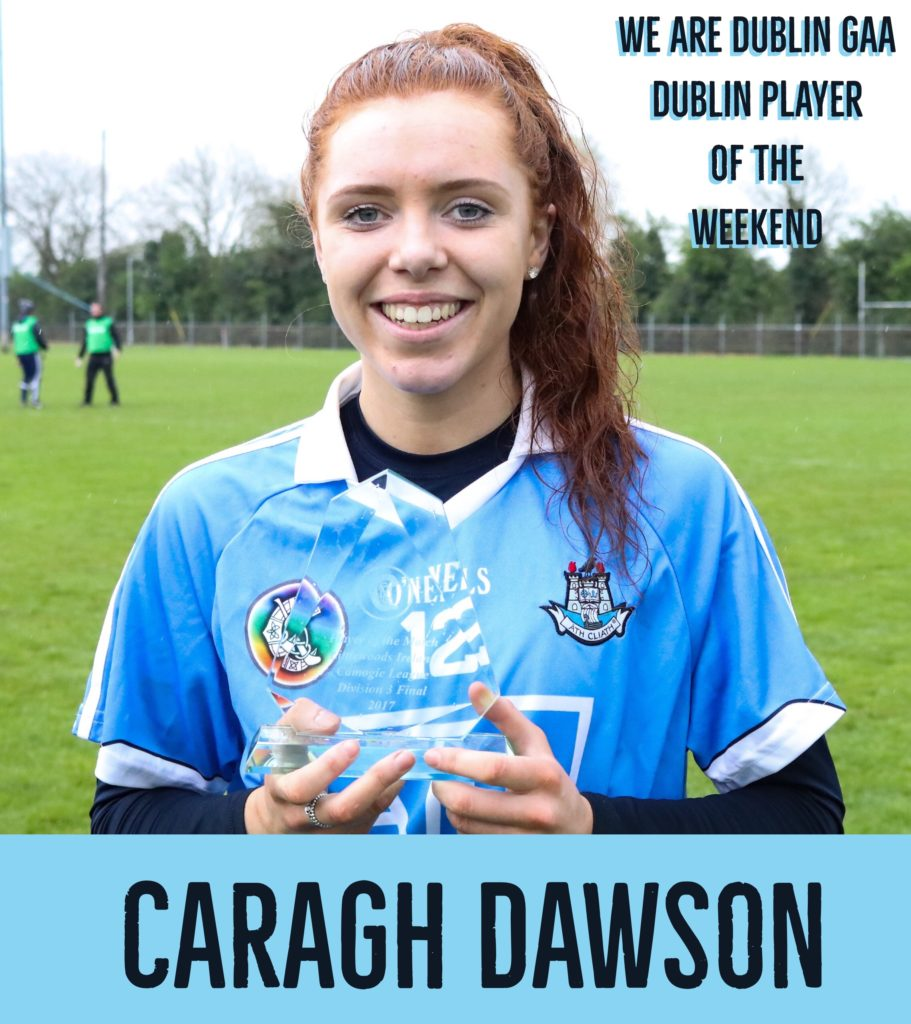player: (143, 38, 791, 825)
